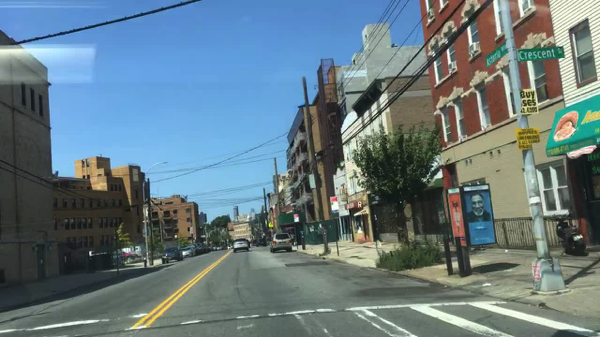car: (268, 232, 293, 253), (89, 251, 118, 268), (161, 246, 183, 263), (233, 237, 249, 252), (114, 250, 140, 259), (182, 245, 198, 259), (196, 243, 203, 256), (257, 238, 267, 247), (203, 243, 210, 254), (251, 238, 257, 247), (209, 244, 217, 250), (225, 244, 234, 249), (216, 245, 223, 250)
motor: (555, 216, 587, 257)
person: (290, 232, 296, 246)
traffic sign: (517, 47, 565, 60), (486, 43, 506, 67), (515, 130, 539, 150), (330, 196, 338, 213), (294, 213, 299, 223), (268, 222, 274, 228)
